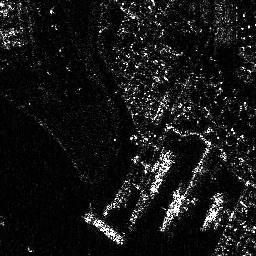ship: (83, 213, 125, 244), (149, 150, 173, 196), (158, 192, 182, 232), (201, 191, 224, 231)
